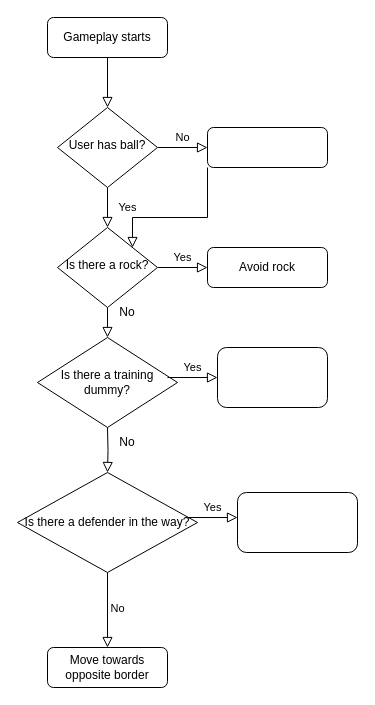
The diagram is 375 pixels wide and 705 high, and some of its shapes have lost their labels. The box of each missing label's shape, as (x1, y1, x2, y2) in pixels:
Avoid defender: (236, 492, 358, 552)
Avoid training dummy: (216, 346, 328, 408)
get ball: (206, 126, 328, 168)
